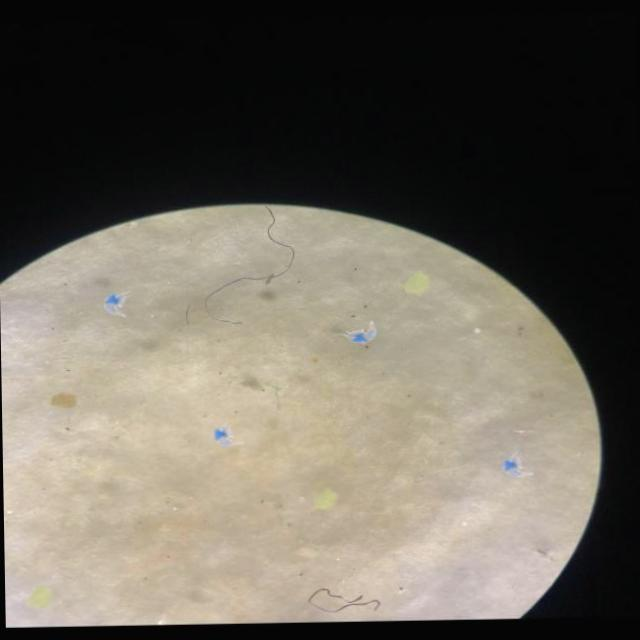fiber: (207, 206, 295, 300), (308, 587, 381, 613)
film: (355, 320, 376, 344), (503, 458, 522, 476), (214, 428, 232, 446), (109, 292, 124, 312)
fragment: (405, 271, 428, 293), (28, 586, 52, 606), (315, 489, 337, 508), (50, 394, 76, 407)
pellet: (474, 327, 480, 332)
